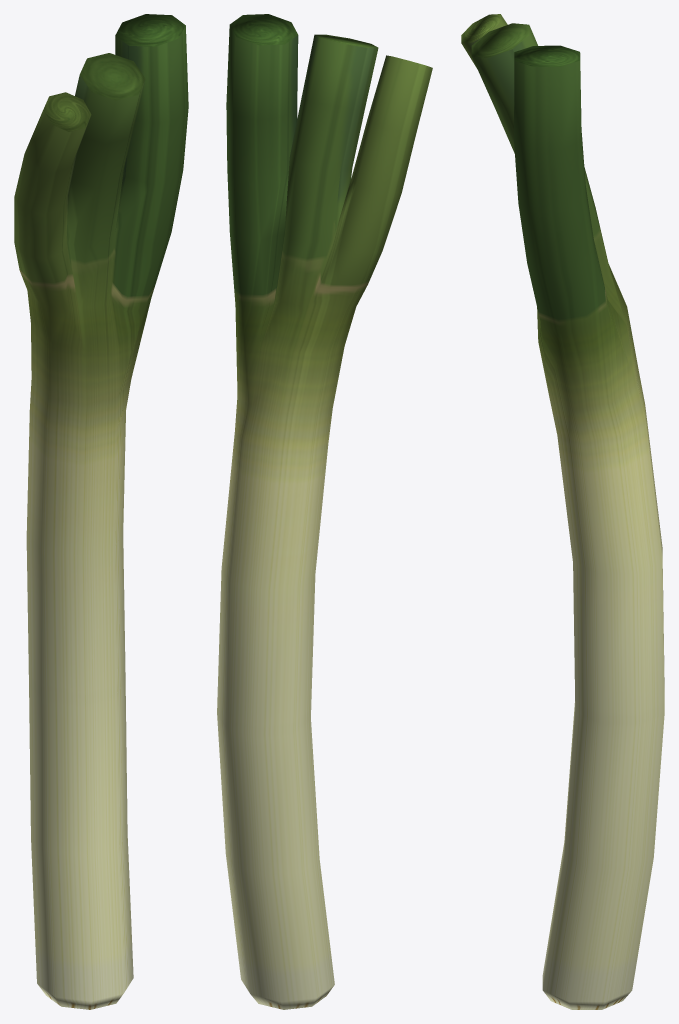
File: negi.fbx
3 renders of one model, left to right at view 1: azimuth 30°, elevation 25°; view 2: azimuth 150°, elevation 25°; view 3: azimuth 270°, elevation 25°, orthographic. The views are drawn at different scales.
Parts seen in each view (by area): view 1: negi1; view 2: negi1; view 3: negi1.
Boxes of the visible parts, x1,y1,x2,y2 form: negi1: (14, 14, 188, 1009); negi1: (217, 14, 432, 1009); negi1: (461, 14, 664, 1009).
Bounding box in the file's own units: 1.05 × 5.78 × 1.11.
